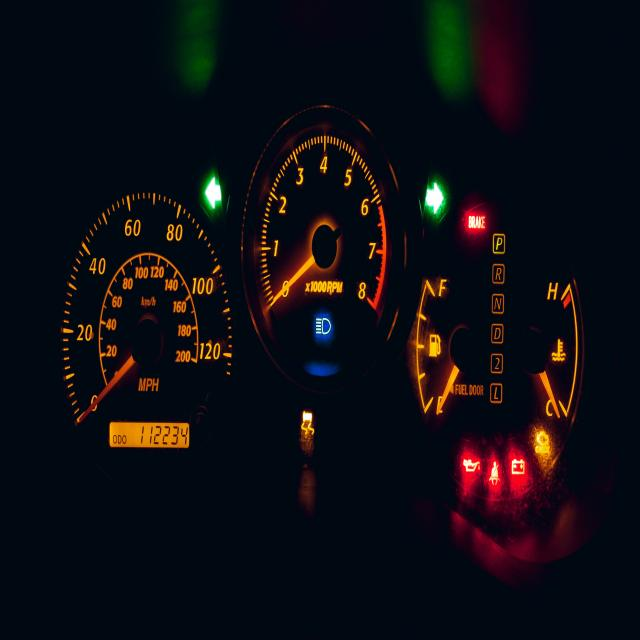Braking System Issue: (468, 215, 485, 229)
Charging System Issue: (511, 458, 525, 476)
Check Engine: (534, 431, 550, 455)
Electronic Stability Problem -ESP-: (300, 408, 316, 438)
Low Engine Oil Warning Light: (462, 458, 480, 472)
